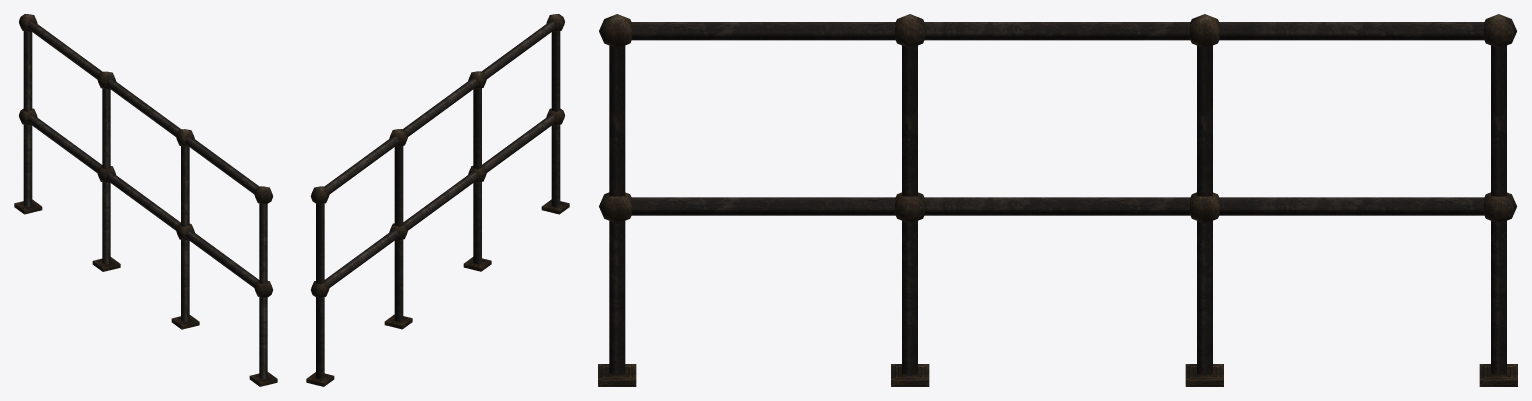
File: railings_factory_3m_dirty.DAE
The picture shows the model from 3 angles, left to right: view 1: azimuth 30°, elevation 25°; view 2: azimuth 150°, elevation 25°; view 3: azimuth 270°, elevation 25°; orthographic projection. The views are drawn at different scales.
Visible parts, largest first — view 1: Object136; view 2: Object136; view 3: Object136.
Part boxes in pixels (x1,y1,x2,y2): Object136: (14, 14, 277, 386); Object136: (306, 14, 569, 386); Object136: (598, 14, 1517, 386).
Size of the model in its own units: 0.125 by 1.31 by 3.
